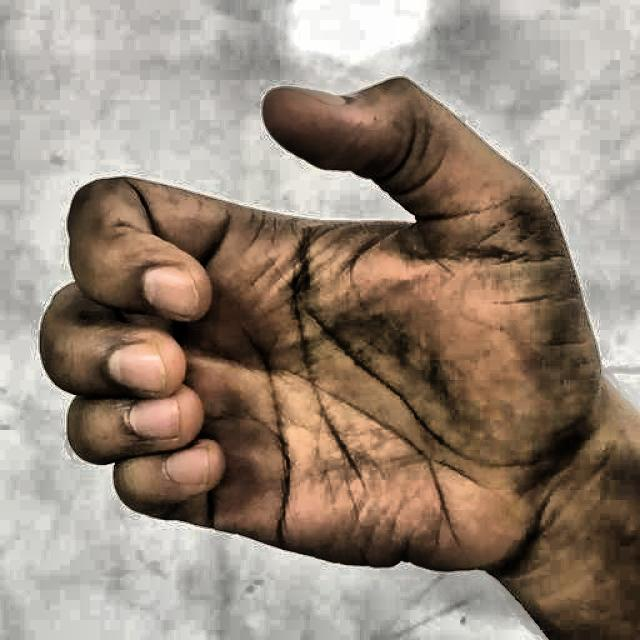Dho: (25, 68, 605, 610)
